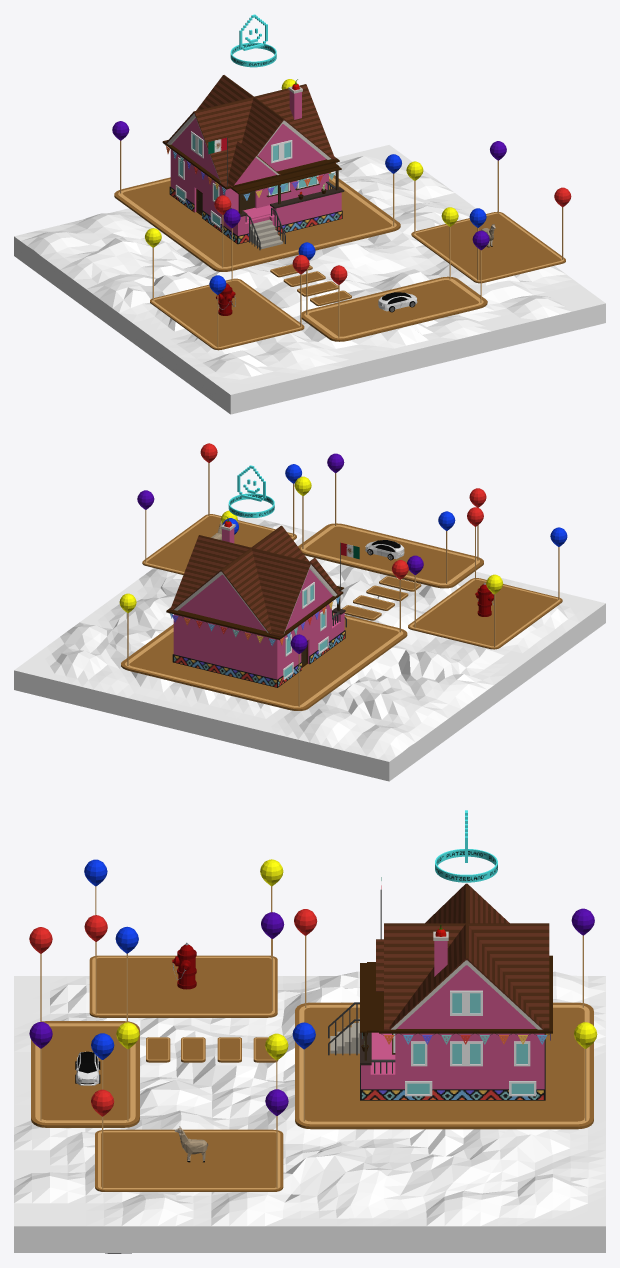
3 views of the same model, one above another, from view 1: azimuth 30°, elevation 25°; view 2: azimuth 150°, elevation 25°; view 3: azimuth 270°, elevation 25° (orthographic). The views are drawn at different scales.
Visible parts, largest first — view 1: Cube.013, Cube.1005, TYPE_PREMIUM, VEHICLES_TESLA; view 2: Cube.013, Cube.1005, TYPE_PREMIUM, VEHICLES_TESLA, OBJRANDOM_FIRE_HYDRANT; view 3: Cube.013, Cube.1005, TYPE_PREMIUM, OBJRANDOM_FIRE_HYDRANT, VEHICLES_TESLA.
Part boxes in pixels (x1,y1,x2,y2): Cube.013: (14,79,605,414); Cube.1005: (162,75,344,250); TYPE_PREMIUM: (230,14,276,67); VEHICLES_TESLA: (378,292,417,312); Cube.013: (14,443,605,781); Cube.1005: (166,516,359,687); TYPE_PREMIUM: (228,465,274,517); VEHICLES_TESLA: (365,540,404,560); OBJRANDOM_FIRE_HYDRANT: (475,583,493,616); Cube.013: (14,859,605,1252); Cube.1005: (328,877,552,1100); TYPE_PREMIUM: (435,810,497,882); OBJRANDOM_FIRE_HYDRANT: (172,942,196,989); VEHICLES_TESLA: (75,1051,100,1085).
Size of the model in its own units: 4000 by 2416 by 4000.
68 materials, 4 textured.
